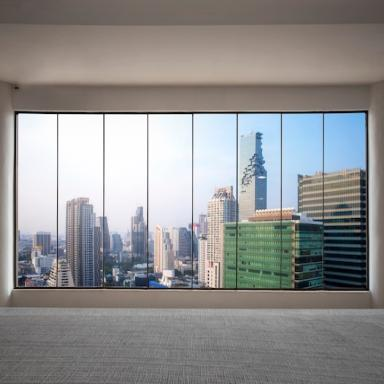glass_panel: (324, 113, 368, 288), (149, 116, 193, 287), (59, 116, 102, 285), (105, 116, 147, 285), (240, 115, 281, 288), (195, 115, 236, 287), (16, 114, 56, 286), (284, 115, 324, 287)
